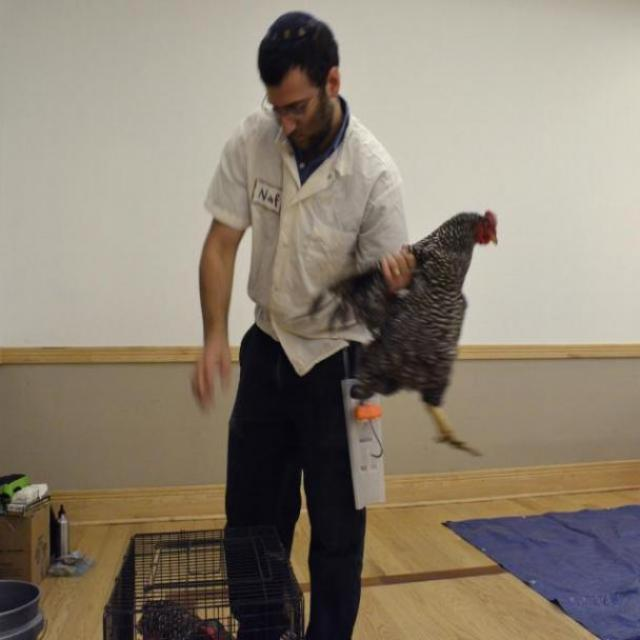Chicken: (345, 179, 498, 463), (134, 597, 233, 640)
